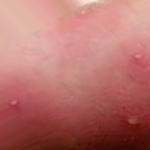Ants: (130, 49, 146, 64), (125, 115, 139, 128), (77, 6, 91, 18), (5, 96, 18, 108)
